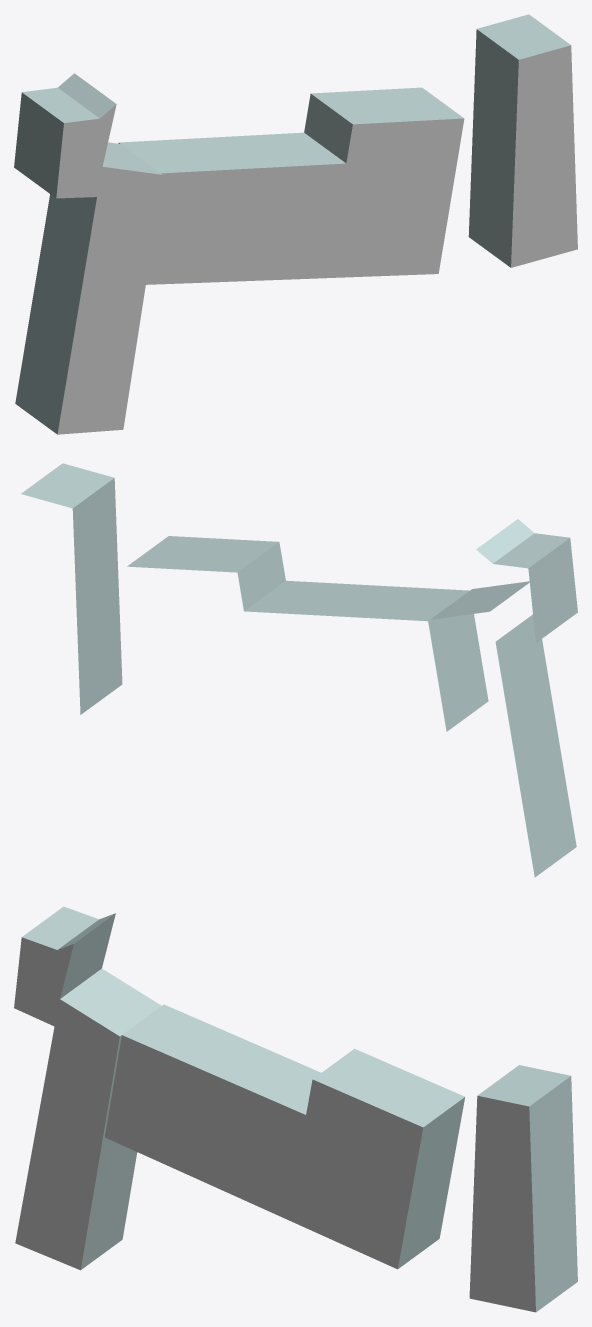
The picture shows the model from 3 angles, top to bottom: view 1: azimuth 30°, elevation 25°; view 2: azimuth 150°, elevation 25°; view 3: azimuth 330°, elevation 25°; orthographic projection.
Parts seen in each view (by area): view 1: 0_2_3_2_3_1_3_0_0; view 2: 0_2_3_2_3_1_3_0_0; view 3: 0_2_3_2_3_1_3_0_0.
Part boxes in pixels (x1,y1,x2,y2): 0_2_3_2_3_1_3_0_0: (14,14,577,434); 0_2_3_2_3_1_3_0_0: (21,463,577,877); 0_2_3_2_3_1_3_0_0: (14,906,577,1312).
Size of the model in its own units: 21.46 by 12.82 by 3.14.
